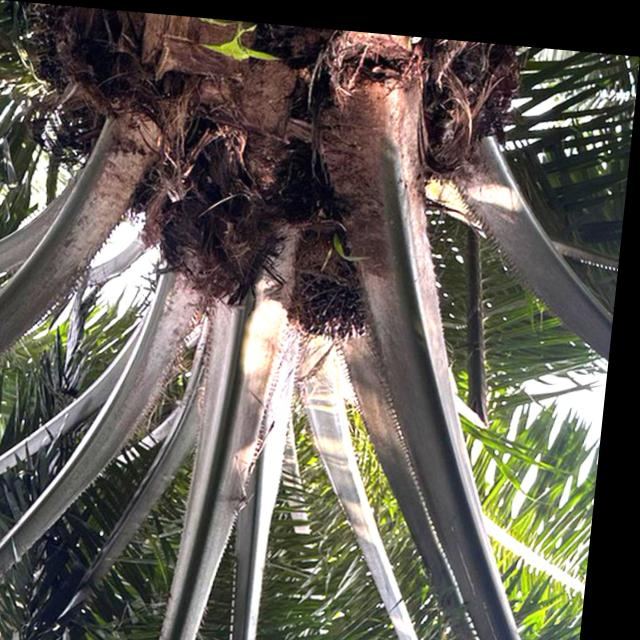almost: (284, 229, 391, 348)
